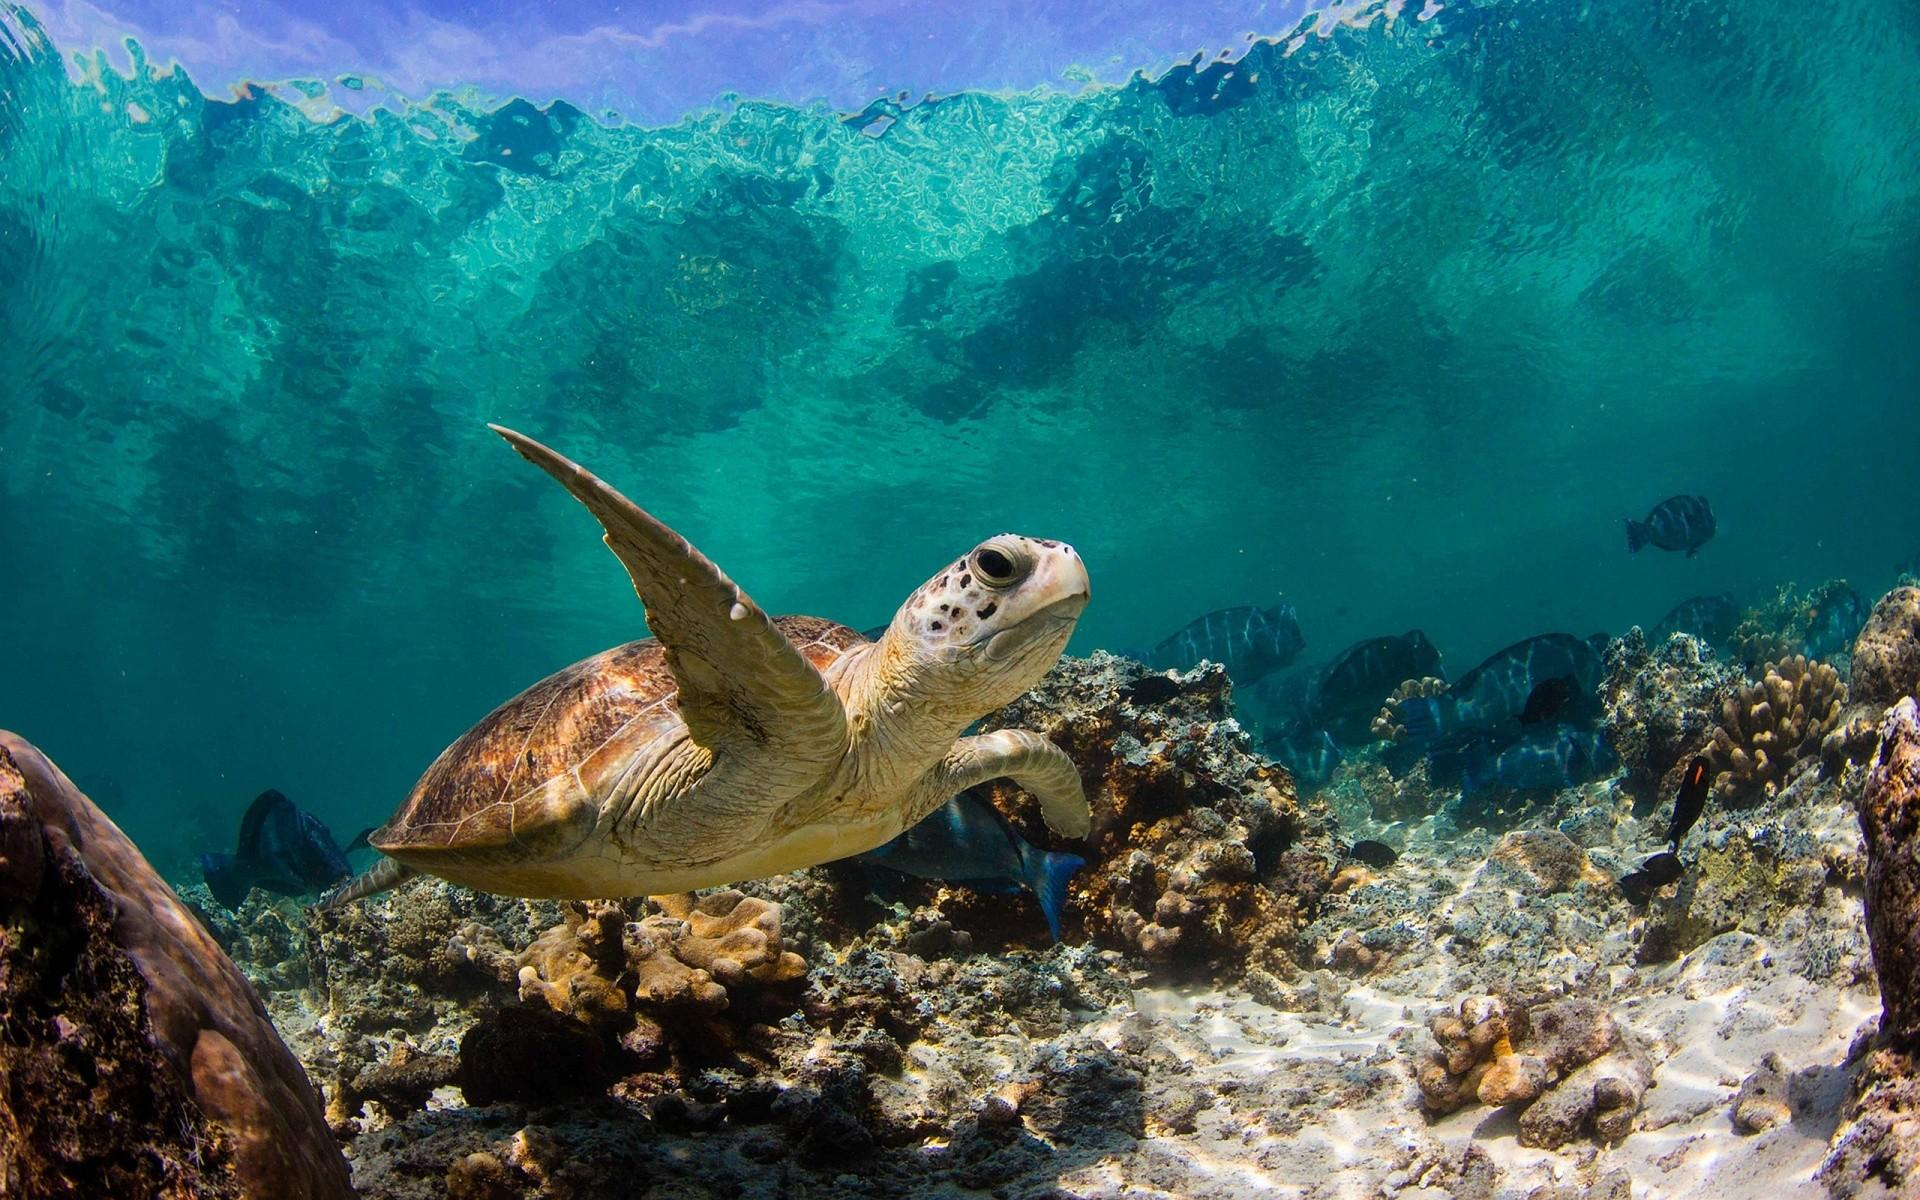turtle: (868, 513, 1106, 711)
